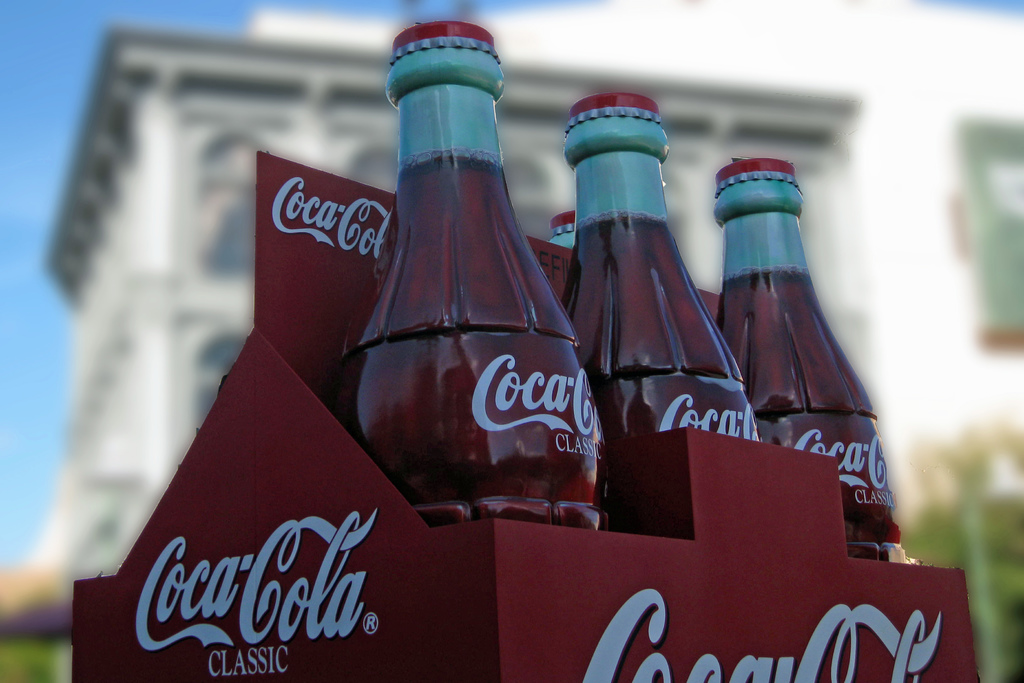can: (331, 17, 612, 532), (716, 156, 909, 564), (559, 89, 760, 441), (548, 212, 578, 251)
